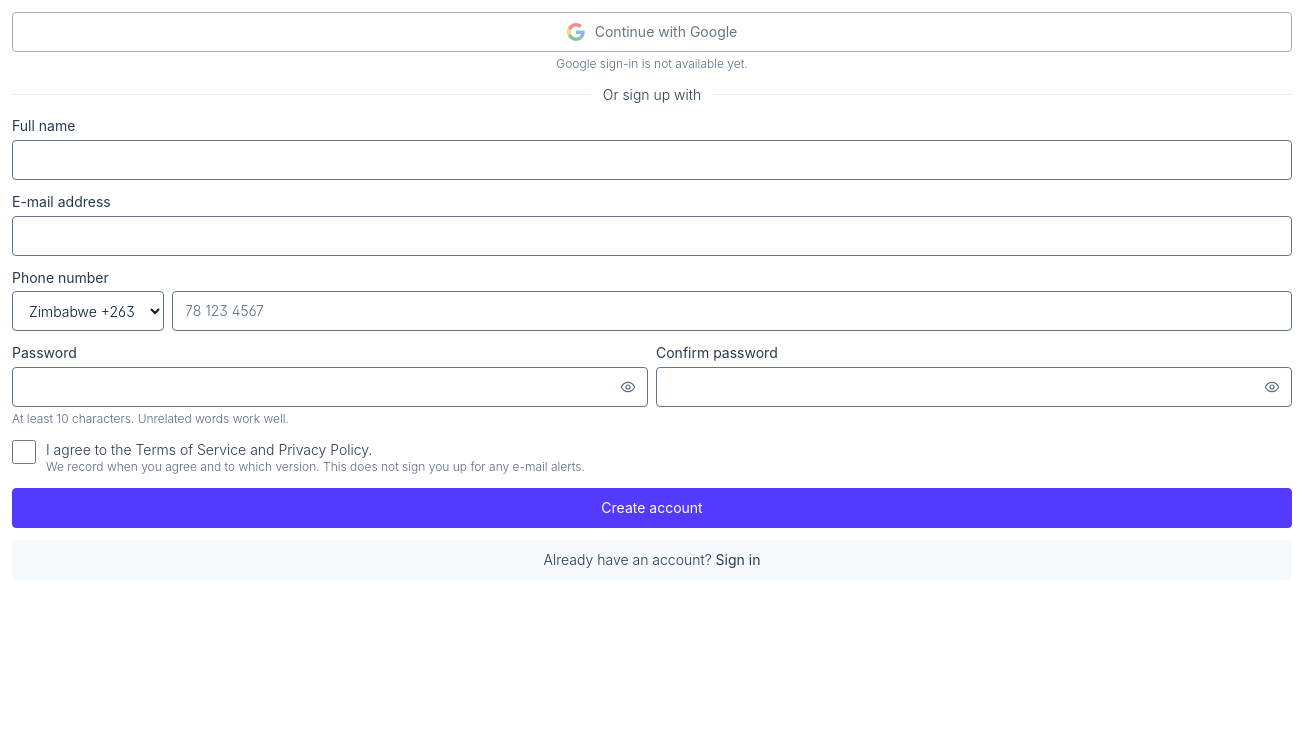
it: RegisterForm › joins the chosen country code to the number, dropping the leading zero
This screenshot has width=1304, height=732.
Select "South Africa +27" in the dropdown named "Country code" at [88, 311], box [12,291,164,331]
Type "Tendai Moyo" into the field labelled "Full name".
click(652, 160); type("Tendai Moyo")  # box [12,140,1292,180]
Type "taken@example.org" into the field labelled "E-mail address".
click(652, 236); type("taken@example.org")  # box [12,216,1292,256]
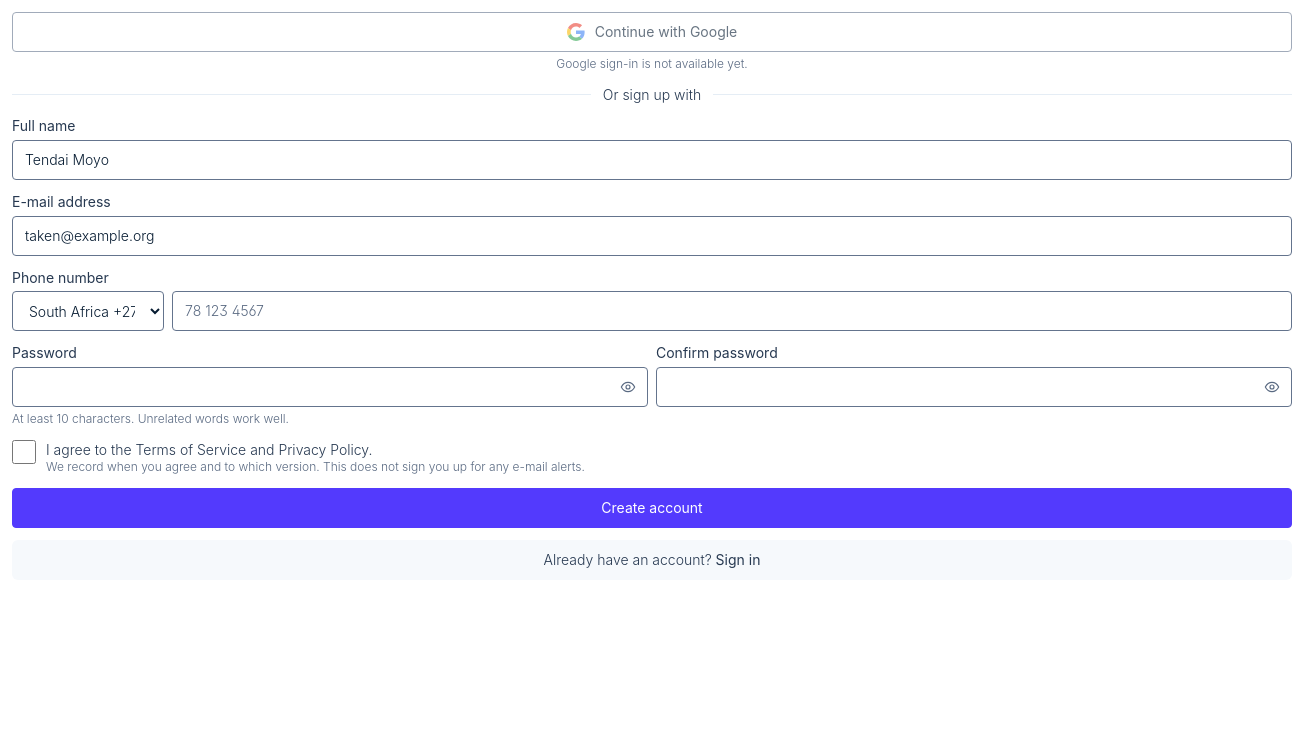
Type "(082) 555-0100" into the field labelled "Phone number".
click(732, 311); type("(082) 555-0100")  # box [172,291,1292,331]
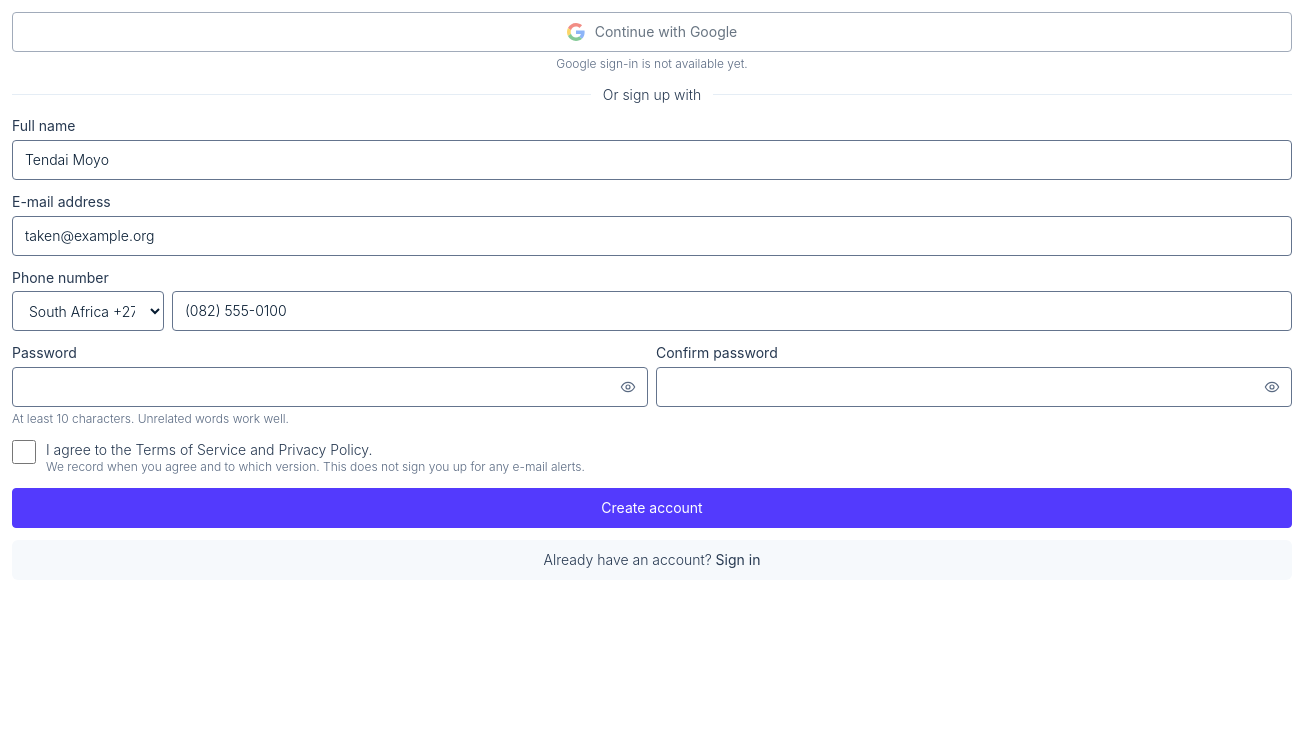
Type "a long enough passphrase" into the password field labelled "Password".
click(330, 387); type("a long enough passphrase")  # box [12,367,648,407]
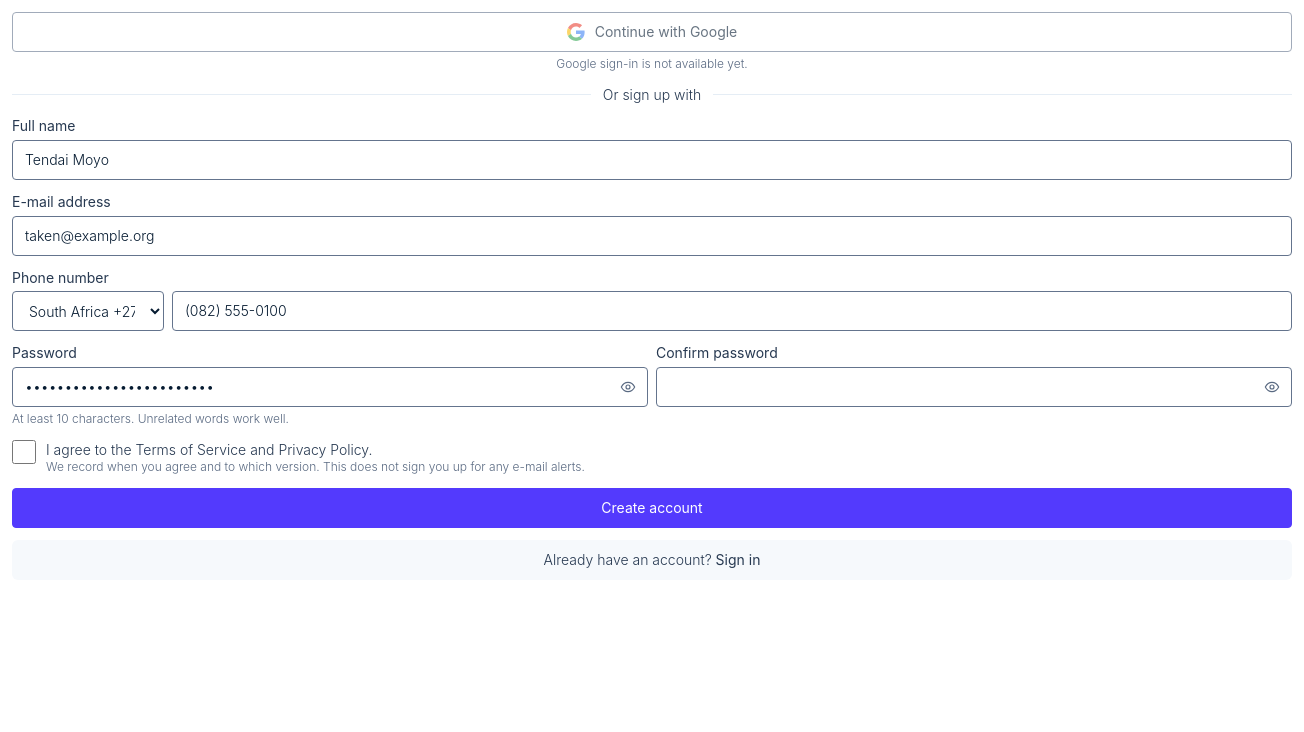
Type "a long enough passphrase" into the password field labelled "Confirm password".
click(974, 387); type("a long enough passphrase")  # box [656,367,1292,407]
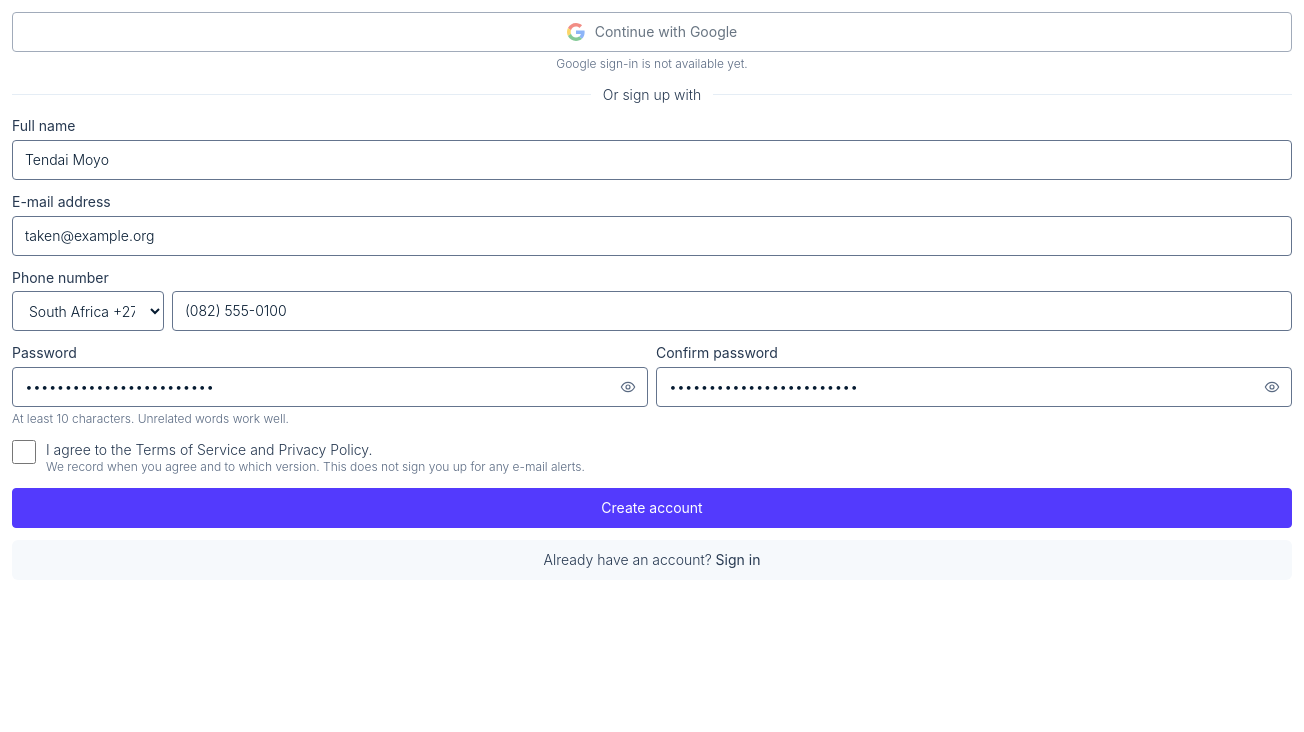
Click the checkbox labelled "I agree to the".
click(24, 452)  # box [12,440,36,464]
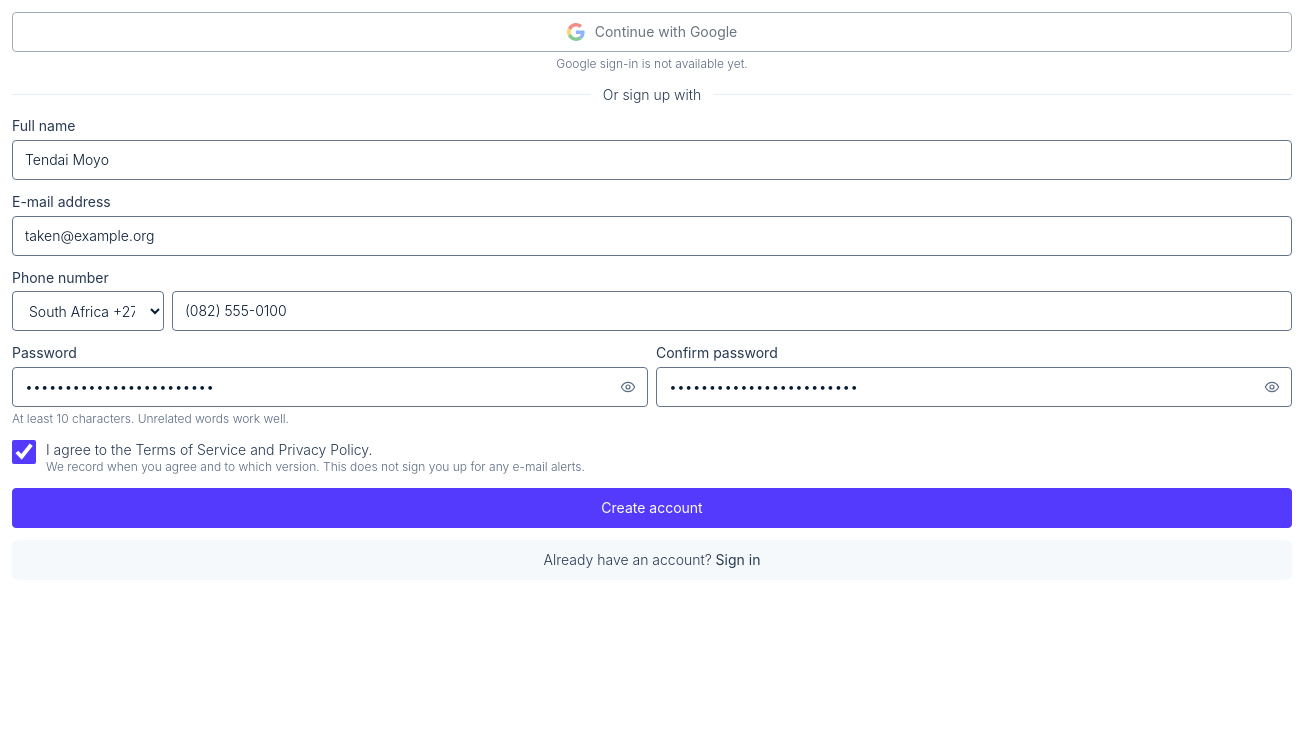
Click the button "Create account".
click(652, 508)  # box [12,488,1292,528]
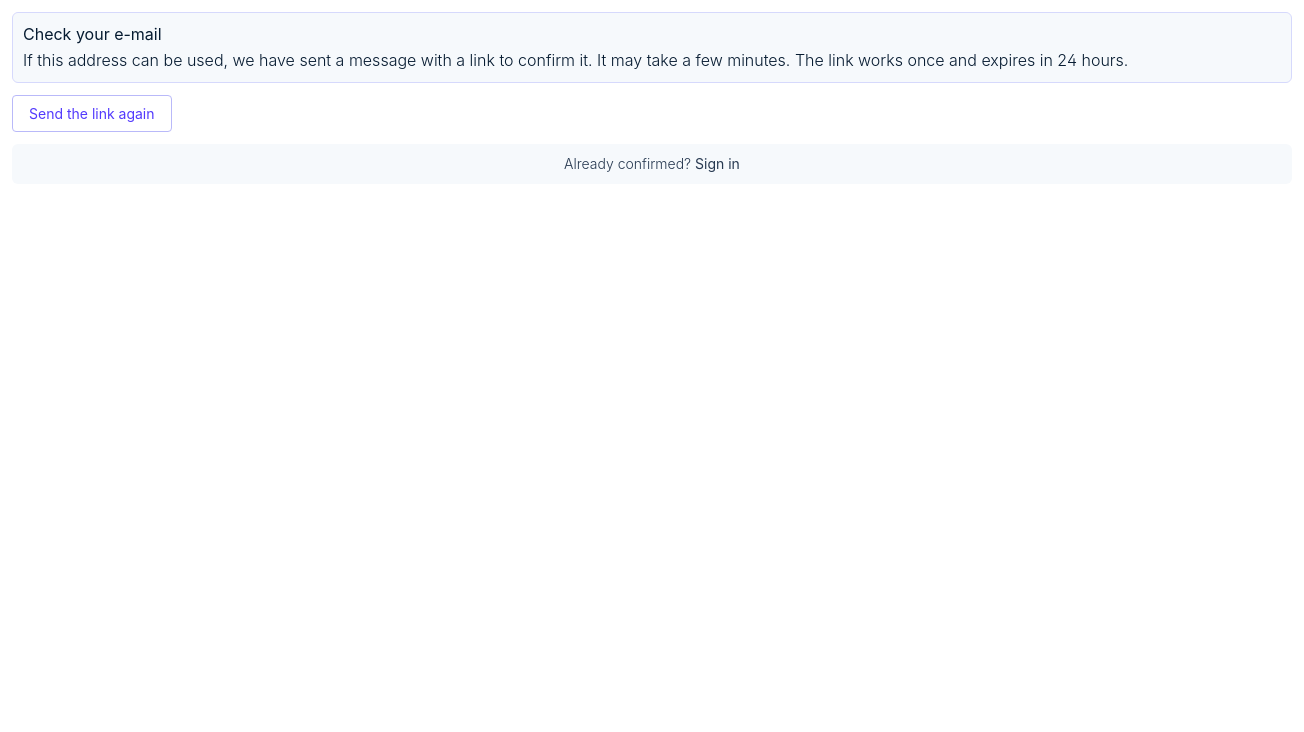
Now the text "Check your e-mail" is shown, box [23,24,162,44]
